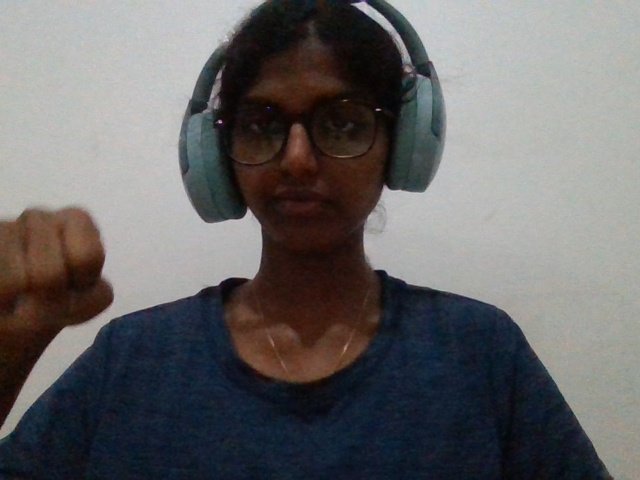Yes: (3, 194, 128, 386)
